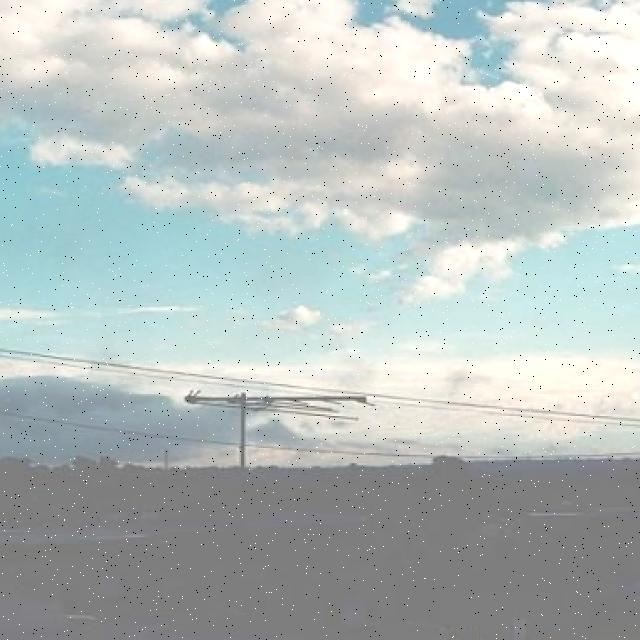Sc: (1, 1, 640, 289)
